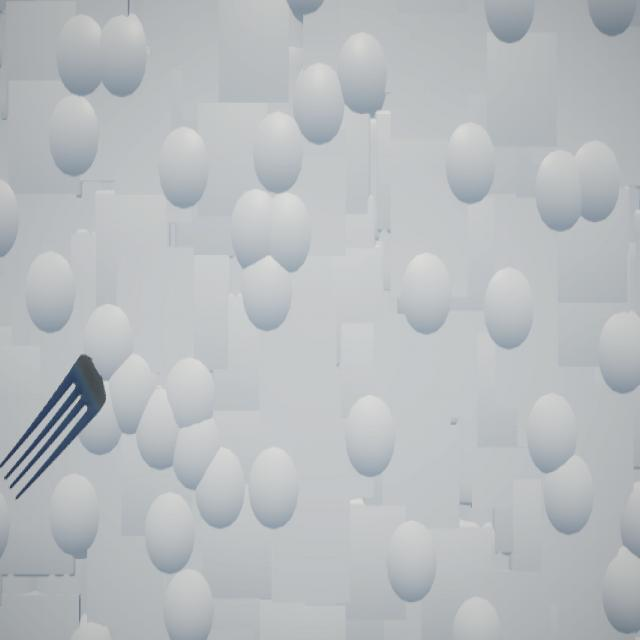top_folk: (1, 356, 107, 502)
